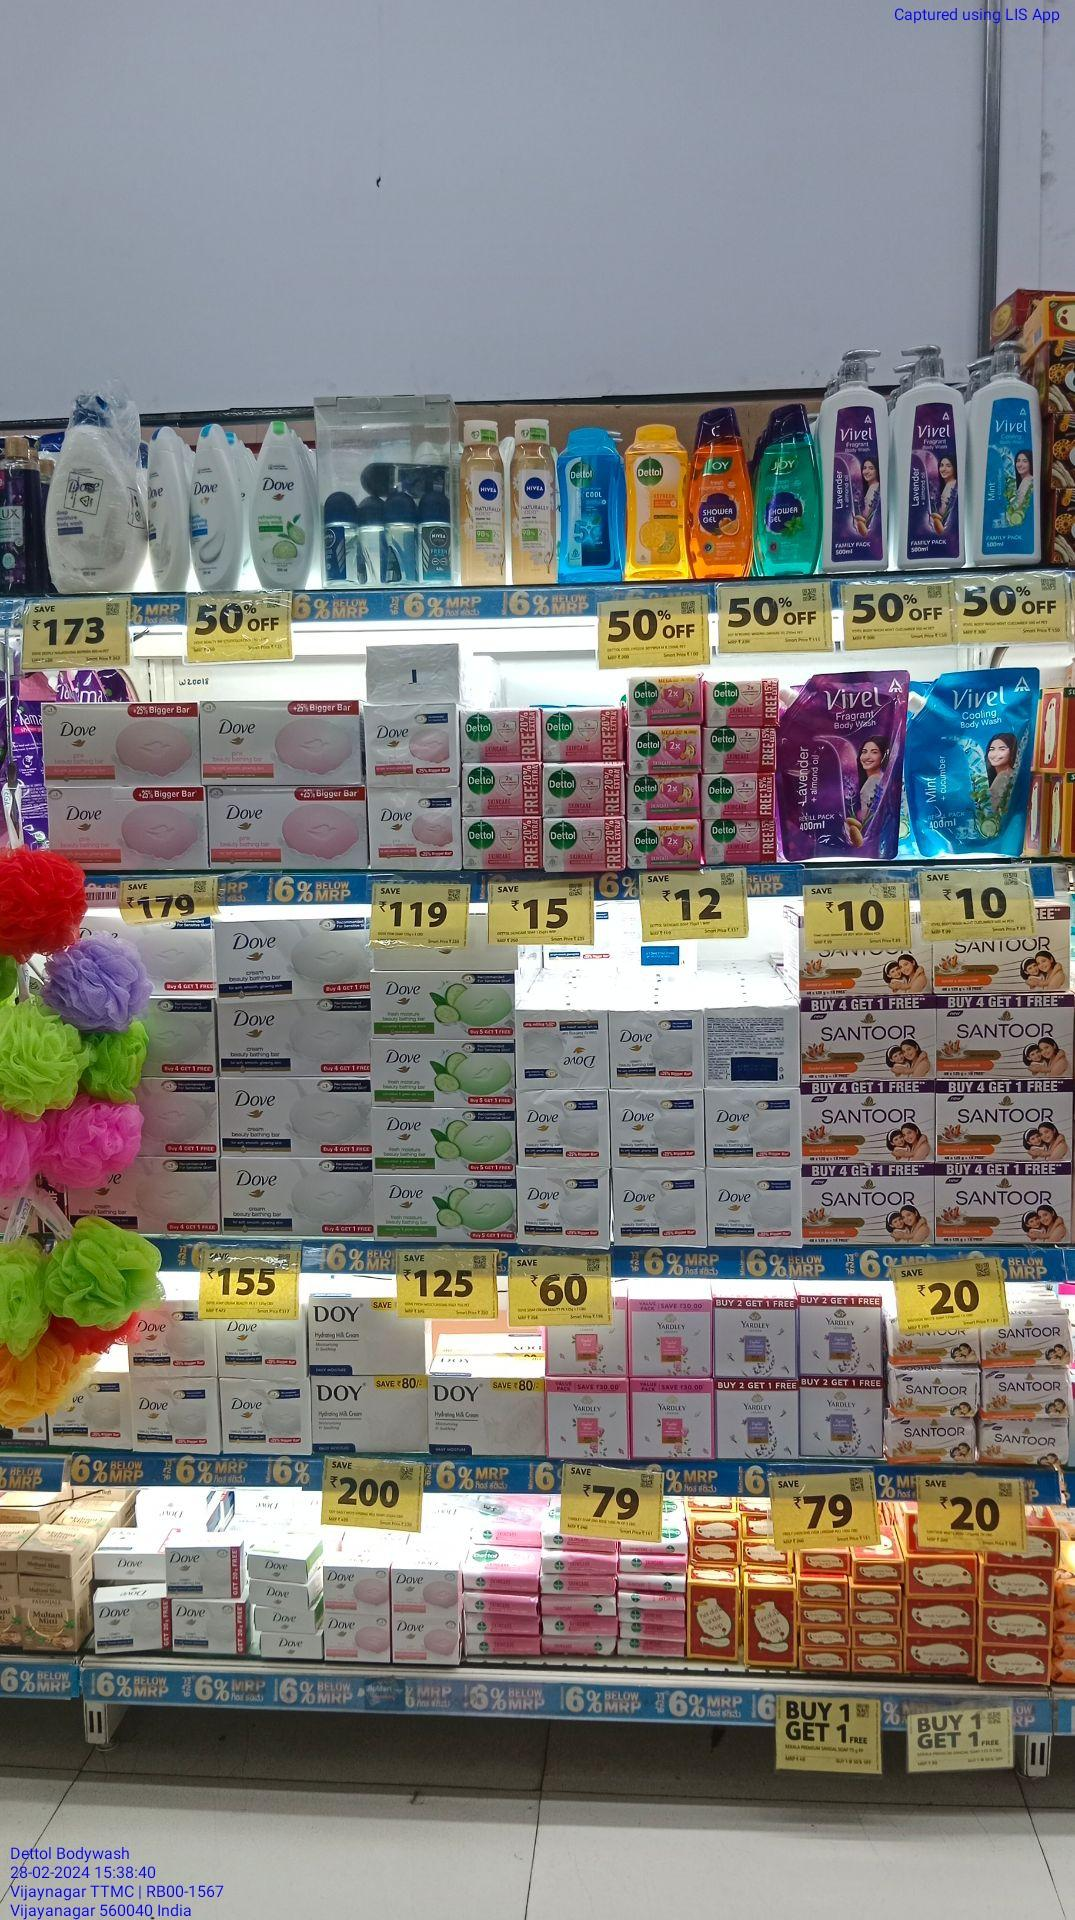Dettol_Bodywash_Cool: (558, 425, 623, 587)
Dettol_Bodywash_Refresh: (628, 422, 687, 584)
Dove_Deep_Moisture_Body_Wash_250ML: (145, 426, 187, 592)
Dove_Gentle_Exfoliating_Body_Wash_250ML: (191, 419, 239, 592)
Dove_Refreshing_Body_Wash_250ML: (248, 418, 311, 591)
Joy_Shower_Gel_Mandarin_and_Lemongrass_250ML: (692, 404, 752, 580)
Joy_Shower_Gel_Mint_and_Eucalyptus_250ML: (753, 402, 820, 578)
